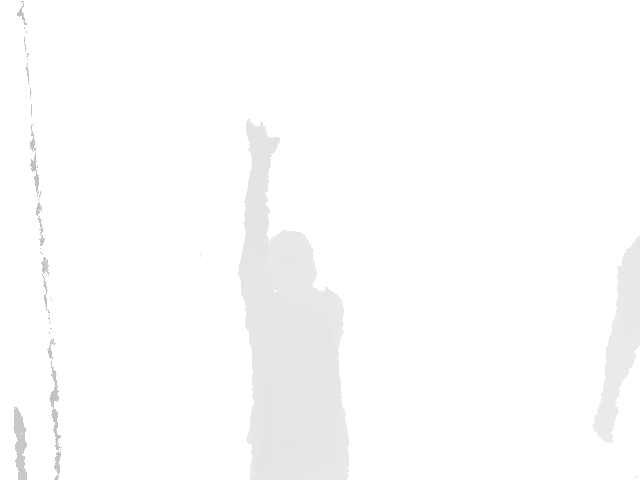hand: (244, 118, 281, 161)
head: (265, 229, 319, 291)
person: (237, 118, 353, 480)
